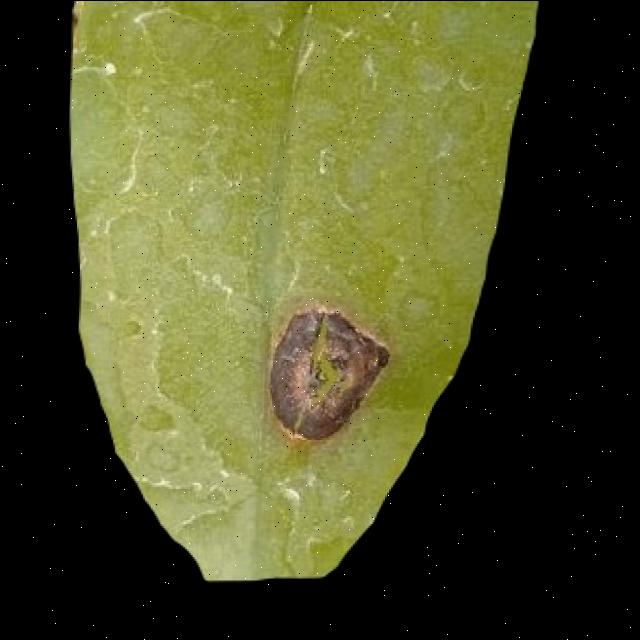mite: (248, 0, 400, 447), (303, 320, 348, 406)
sunburn: (265, 304, 395, 445)
